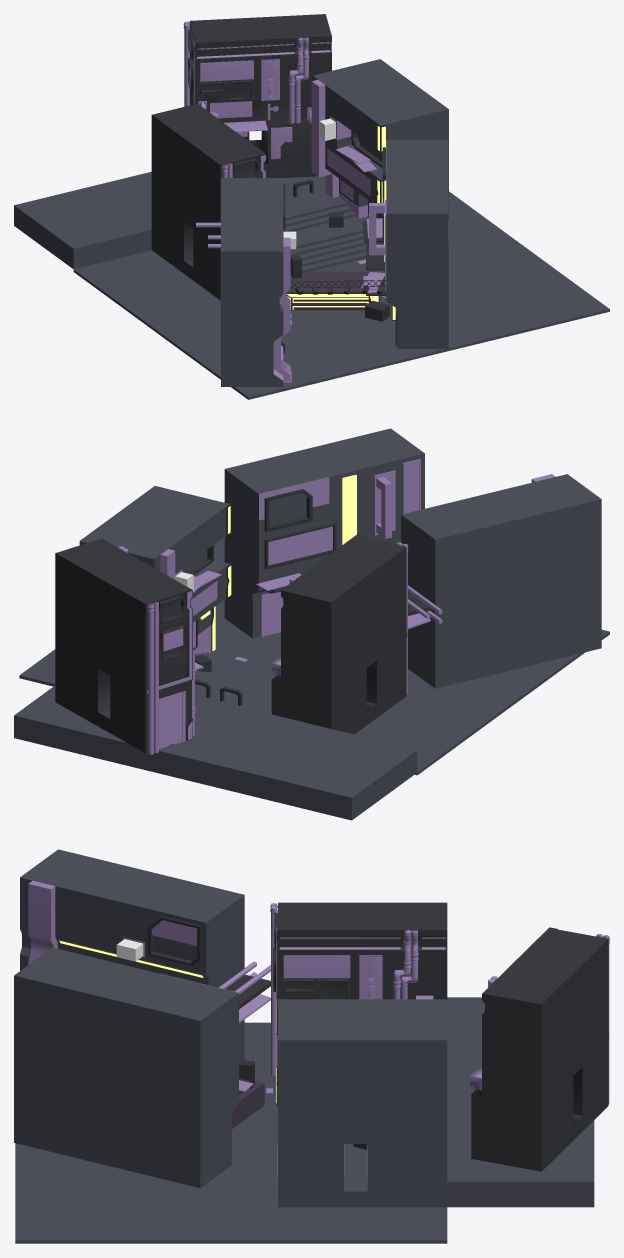
Rendered from CityAlley_BLOCKOUT 1.fbx.
3 renders of one model, top to bottom at view 1: azimuth 30°, elevation 25°; view 2: azimuth 150°, elevation 25°; view 3: azimuth 270°, elevation 25°, orthographic. The views are drawn at different scales.
Parts seen in each view (by area): view 1: GroundFloor_BLOCK, Building_Back_BLOCK, Building_R01_BLOCK, Building_L01_BLOCK, Building_R02_BLOCK, Building_L02_BLOCK, Stage_BLOCK, BoomBoxes_BLOCK, StageLights_BLOCK; view 2: GroundFloor_BLOCK, Building_L01_BLOCK, Building_Back_BLOCK, Building_R01_BLOCK, Building_L02_BLOCK, Building_R02_BLOCK; view 3: Building_R01_BLOCK, GroundFloor_BLOCK, Building_R02_BLOCK, Building_Back_BLOCK, Building_L01_BLOCK, Building_L02_BLOCK, Stage_BLOCK.
Part boxes in pixels (<box>): GroundFloor_BLOCK: <box>14,171,609,399</box>; Building_Back_BLOCK: <box>183,14,331,177</box>; Building_R01_BLOCK: <box>360,140,448,348</box>; Building_L01_BLOCK: <box>196,178,296,386</box>; Building_R02_BLOCK: <box>311,59,448,244</box>; Building_L02_BLOCK: <box>151,103,266,300</box>; Stage_BLOCK: <box>286,271,379,310</box>; BoomBoxes_BLOCK: <box>290,212,389,321</box>; StageLights_BLOCK: <box>290,280,386,294</box>; GroundFloor_BLOCK: <box>14,537,609,820</box>; Building_L01_BLOCK: <box>401,474,601,688</box>; Building_Back_BLOCK: <box>55,538,203,754</box>; Building_R01_BLOCK: <box>224,428,424,638</box>; Building_L02_BLOCK: <box>271,534,408,734</box>; Building_R02_BLOCK: <box>79,486,231,653</box>; Building_R01_BLOCK: <box>14,947,253,1188</box>; GroundFloor_BLOCK: <box>15,997,594,1243</box>; Building_R02_BLOCK: <box>276,995,447,1207</box>; Building_Back_BLOCK: <box>470,927,609,1171</box>; Building_L01_BLOCK: <box>20,849,270,1063</box>; Building_L02_BLOCK: <box>270,902,447,1075</box>; Stage_BLOCK: <box>232,1081,264,1128</box>.
Bounding box in the file's own units: 17.22 × 7.04 × 19.38.
